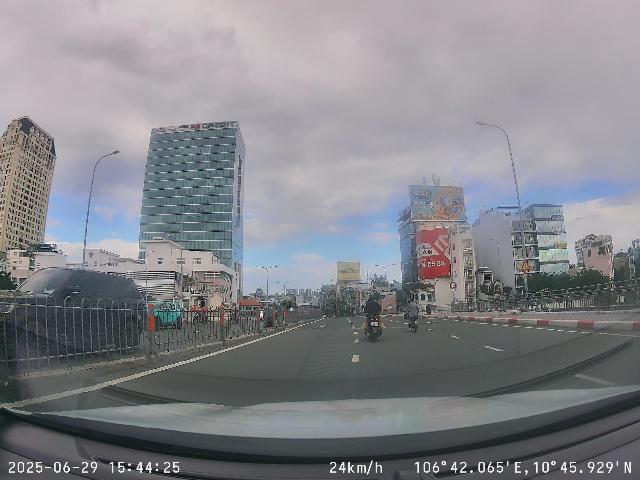245-di-cham: (521, 260, 530, 271)
